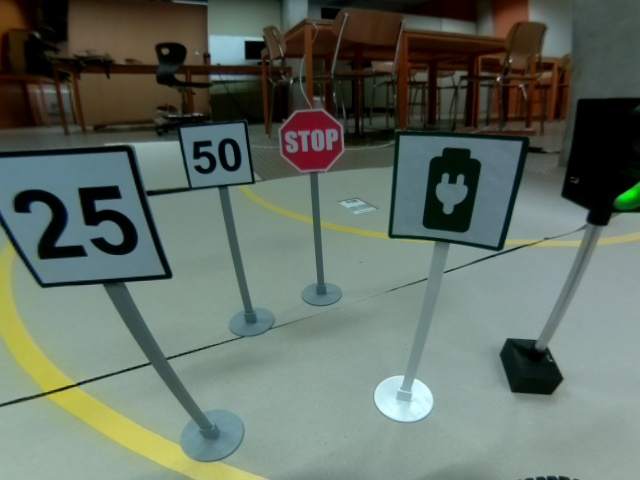battery: (387, 131, 528, 251)
speed25: (1, 143, 171, 289)
speed50: (176, 119, 255, 190)
stop: (277, 109, 343, 172)
trafficLightGreen: (560, 97, 640, 212)
